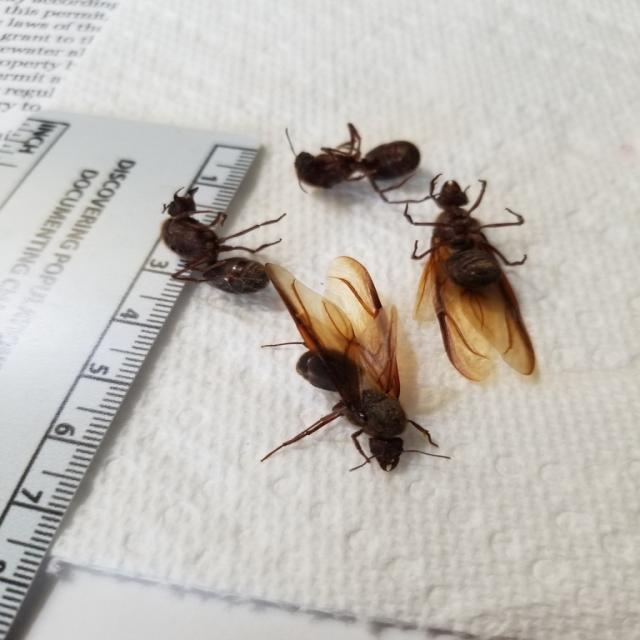Dead-Female-Alate: (260, 256, 451, 472), (403, 173, 536, 382)
Dead-Female-Dealate: (158, 187, 286, 296), (286, 123, 440, 204)
